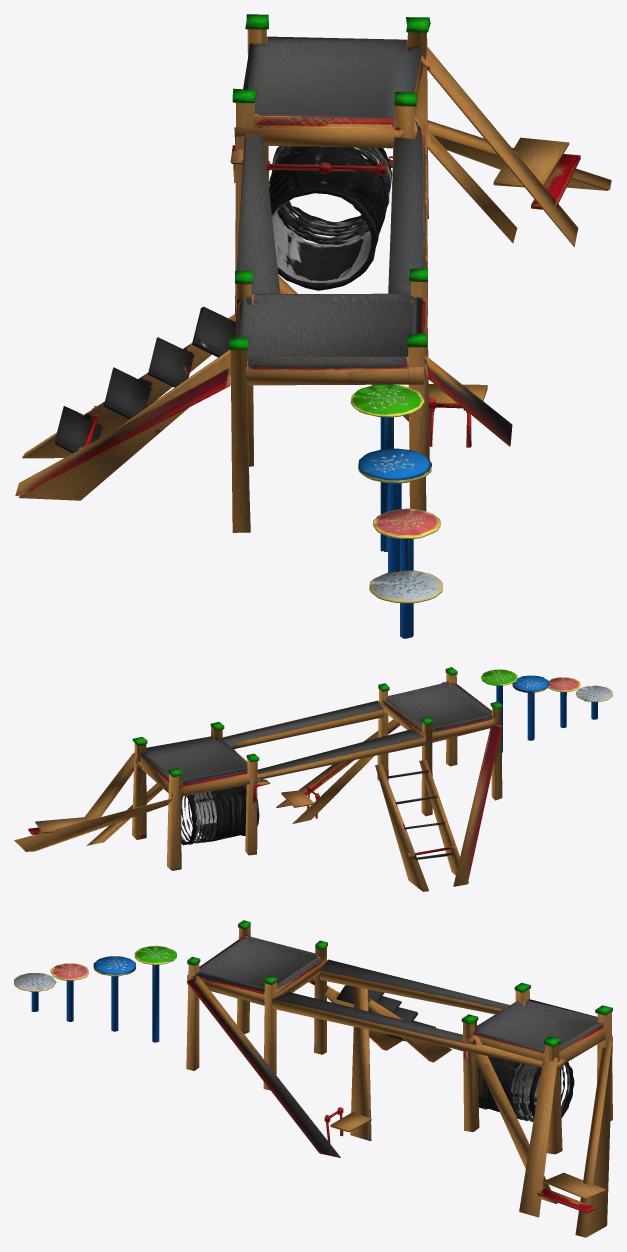
The model's file is dog-obstacle-course.glb.
3 renders of one model, top to bottom at view 1: azimuth 30°, elevation 25°; view 2: azimuth 150°, elevation 25°; view 3: azimuth 270°, elevation 25°, orthographic. The views are drawn at different scales.
Parts seen in each view (by area): view 1: tripo_node_9fd233d2-69c6-4851-b43d-becb2e2aab07; view 2: tripo_node_9fd233d2-69c6-4851-b43d-becb2e2aab07; view 3: tripo_node_9fd233d2-69c6-4851-b43d-becb2e2aab07.
Part boxes in pixels (bbox=[...]): tripo_node_9fd233d2-69c6-4851-b43d-becb2e2aab07: bbox=[15, 14, 611, 638]; tripo_node_9fd233d2-69c6-4851-b43d-becb2e2aab07: bbox=[14, 667, 612, 891]; tripo_node_9fd233d2-69c6-4851-b43d-becb2e2aab07: bbox=[14, 920, 612, 1237].
Size of the model in its own units: 0.834 by 0.2676 by 0.998.
Materials: 1 (1 with a texture image).
